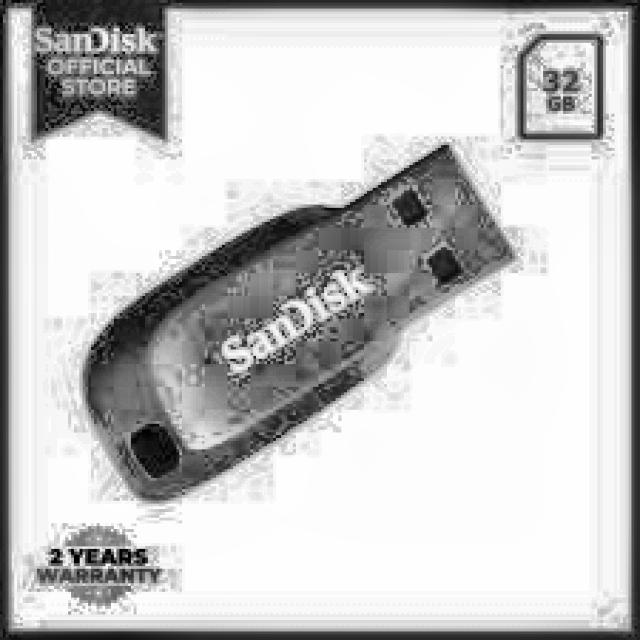Mug: (75, 118, 545, 541)
